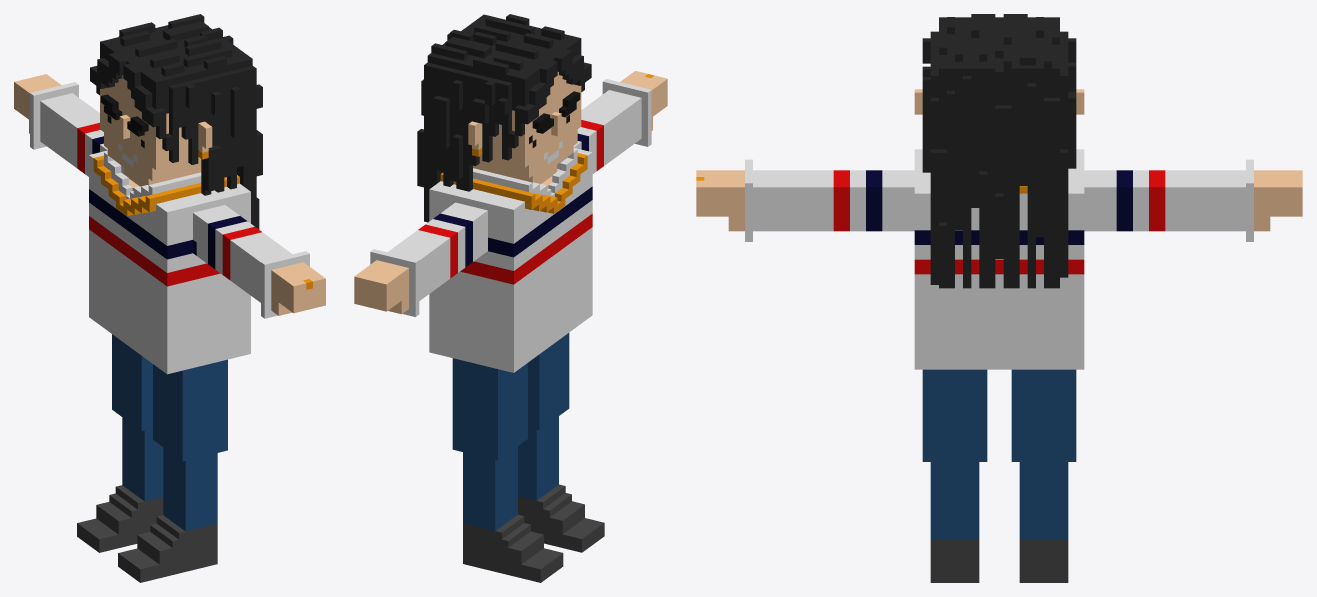
File: male4.obj
3 renders of one model, left to right at view 1: azimuth 30°, elevation 25°; view 2: azimuth 150°, elevation 25°; view 3: azimuth 270°, elevation 25°, orthographic. The views are drawn at different scales.
Bounding box in the file's own units: 1.9 × 7.4 × 7.5.
1 material, 1 textured.
